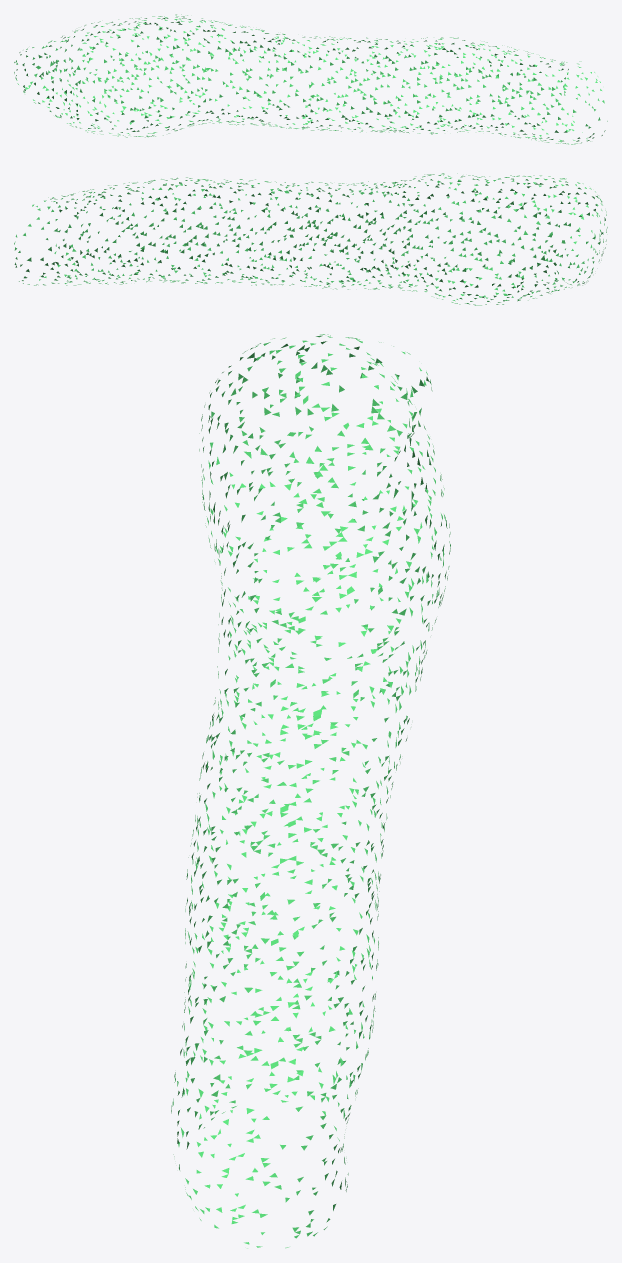
Rendered from morph_020.glb.
3 views of the same model, one above another, from view 1: azimuth 30°, elevation 25°; view 2: azimuth 150°, elevation 25°; view 3: azimuth 270°, elevation 25° (orthographic). The views are drawn at different scales.
Bounding box in the file's own units: 109 × 41.57 × 24.52.
